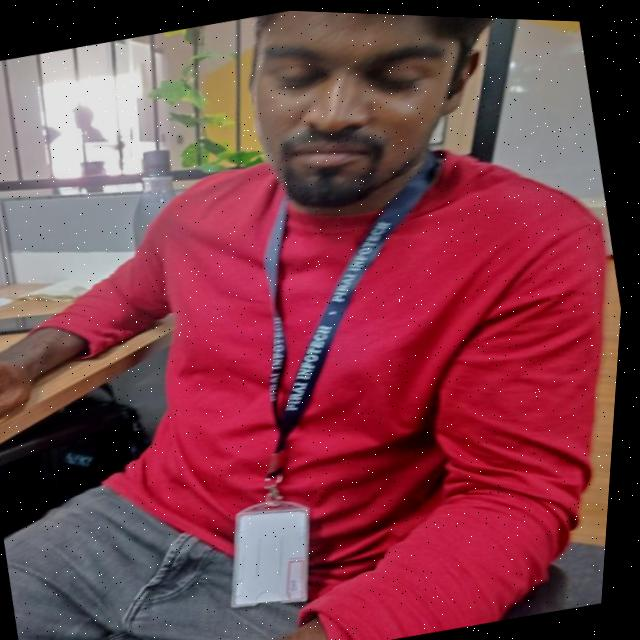id_card: (142, 138, 537, 631)
